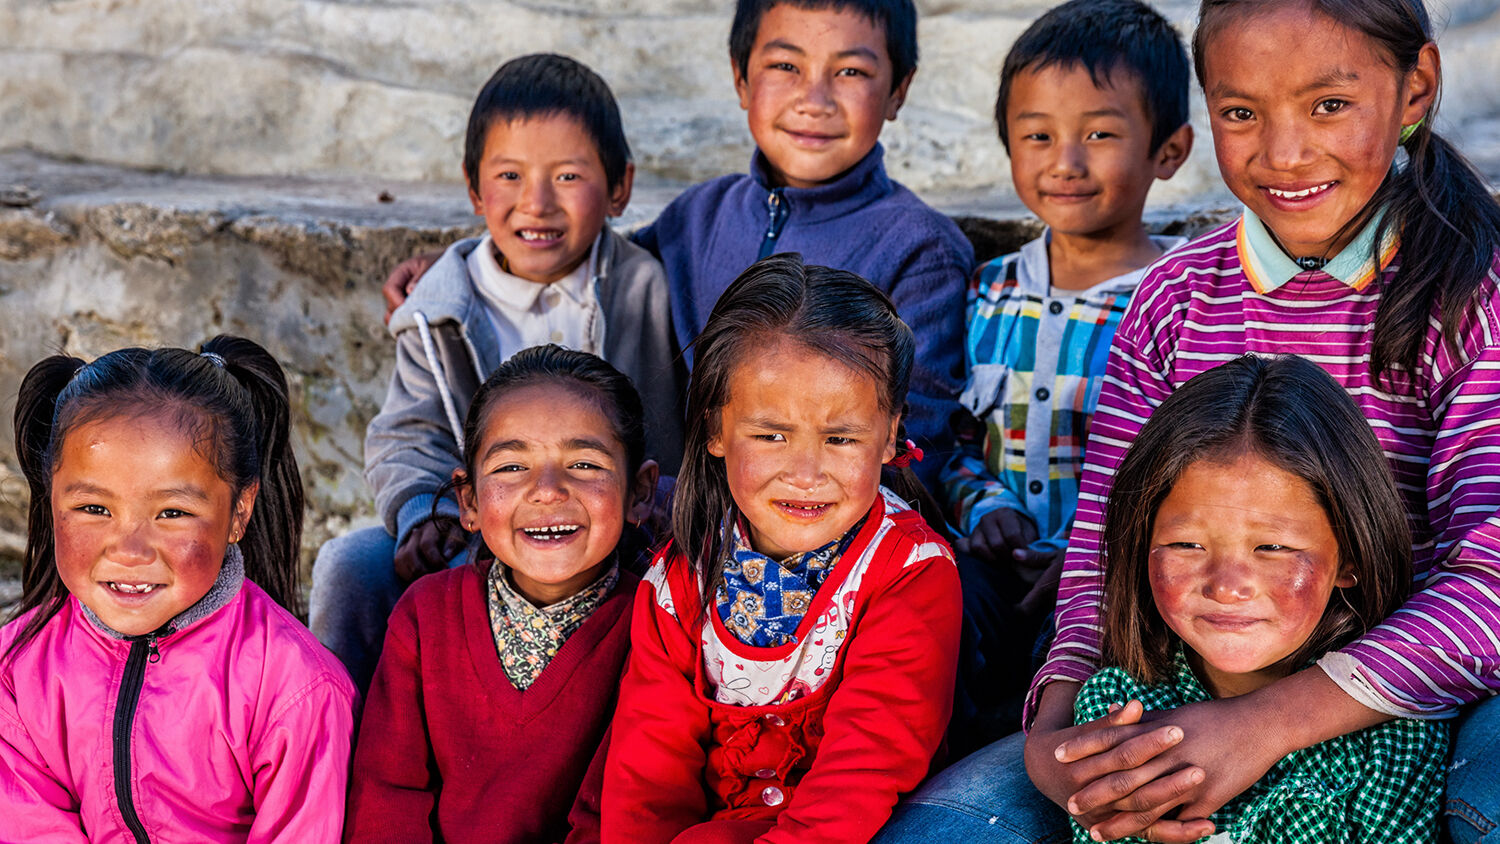human: (1012, 3, 1500, 844), (602, 247, 967, 844), (1, 309, 372, 844), (1057, 350, 1450, 844), (329, 49, 690, 562), (645, 2, 984, 516), (328, 331, 648, 844), (960, 4, 1189, 545)
